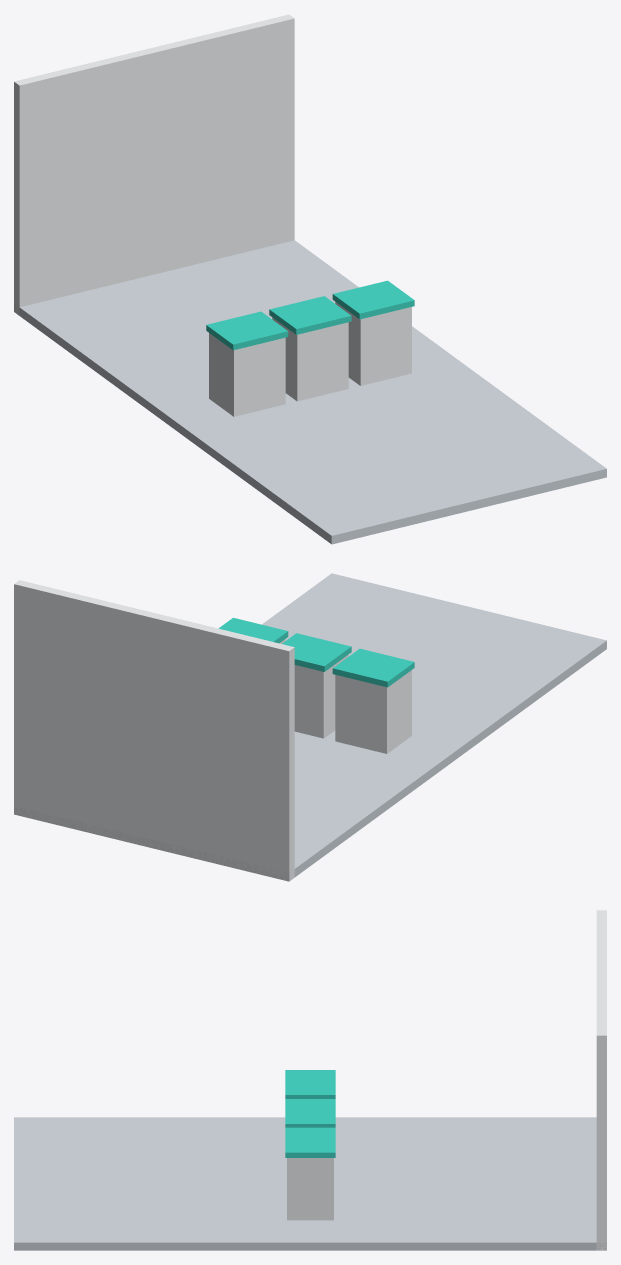
3 renders of one model, top to bottom at view 1: azimuth 30°, elevation 25°; view 2: azimuth 150°, elevation 25°; view 3: azimuth 270°, elevation 25°, orthographic. The views are drawn at different scales.
Visible parts, largest first — view 1: Exhibition Booth Concept; view 2: Exhibition Booth Concept; view 3: Exhibition Booth Concept.
Boxes of the visible parts, box(x1,y1,x2,y2) form: Exhibition Booth Concept: box(14, 14, 606, 544); Exhibition Booth Concept: box(14, 573, 606, 881); Exhibition Booth Concept: box(14, 910, 606, 1250).
Size of the model in its own units: 4 by 3.2 by 8.
